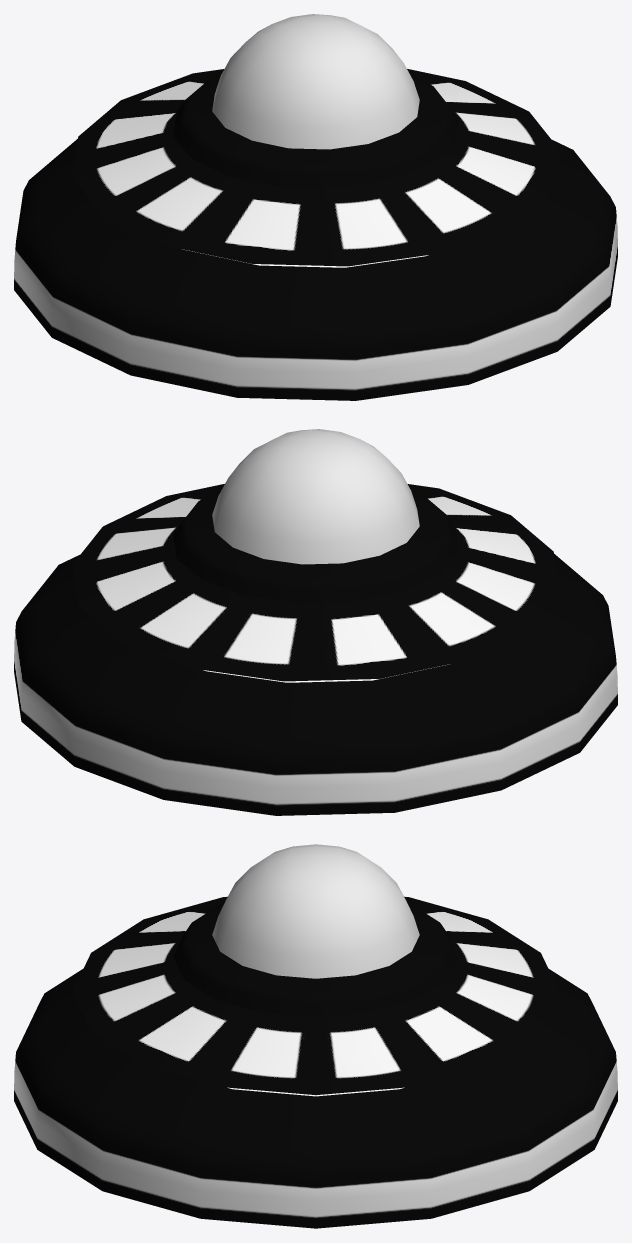
Rendered from playerShip.fbx.
3 views of the same model, one above another, from view 1: azimuth 30°, elevation 25°; view 2: azimuth 150°, elevation 25°; view 3: azimuth 270°, elevation 25° (orthographic).
Visible parts, largest first — view 1: shipBody, shipMidSection; view 2: shipBody, shipMidSection; view 3: shipBody, shipMidSection.
Boxes of the visible parts, left/top/right/bottom form: shipBody: left=14, top=14, right=617, bottom=400; shipMidSection: left=72, top=69, right=559, bottom=266; shipBody: left=14, top=429, right=617, bottom=815; shipMidSection: left=72, top=484, right=559, bottom=681; shipBody: left=14, top=844, right=617, bottom=1228; shipMidSection: left=72, top=896, right=559, bottom=1095.
Size of the model in its own units: 1.8 by 0.8093 by 1.8.
